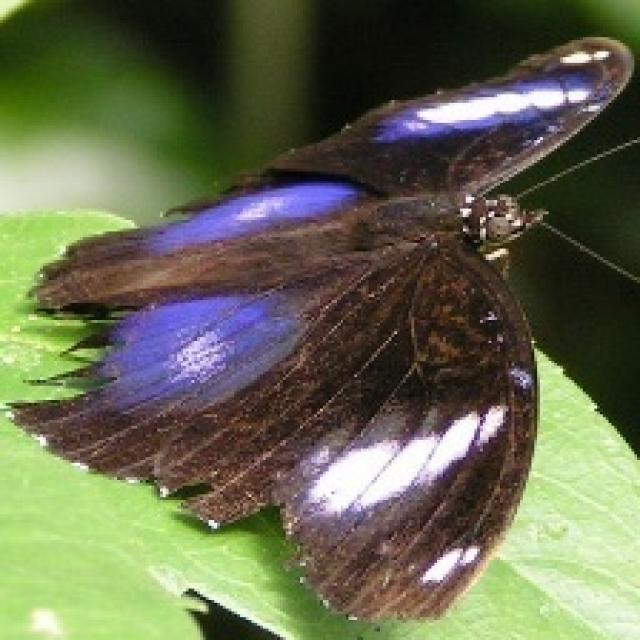butterfly: (3, 31, 637, 626)
